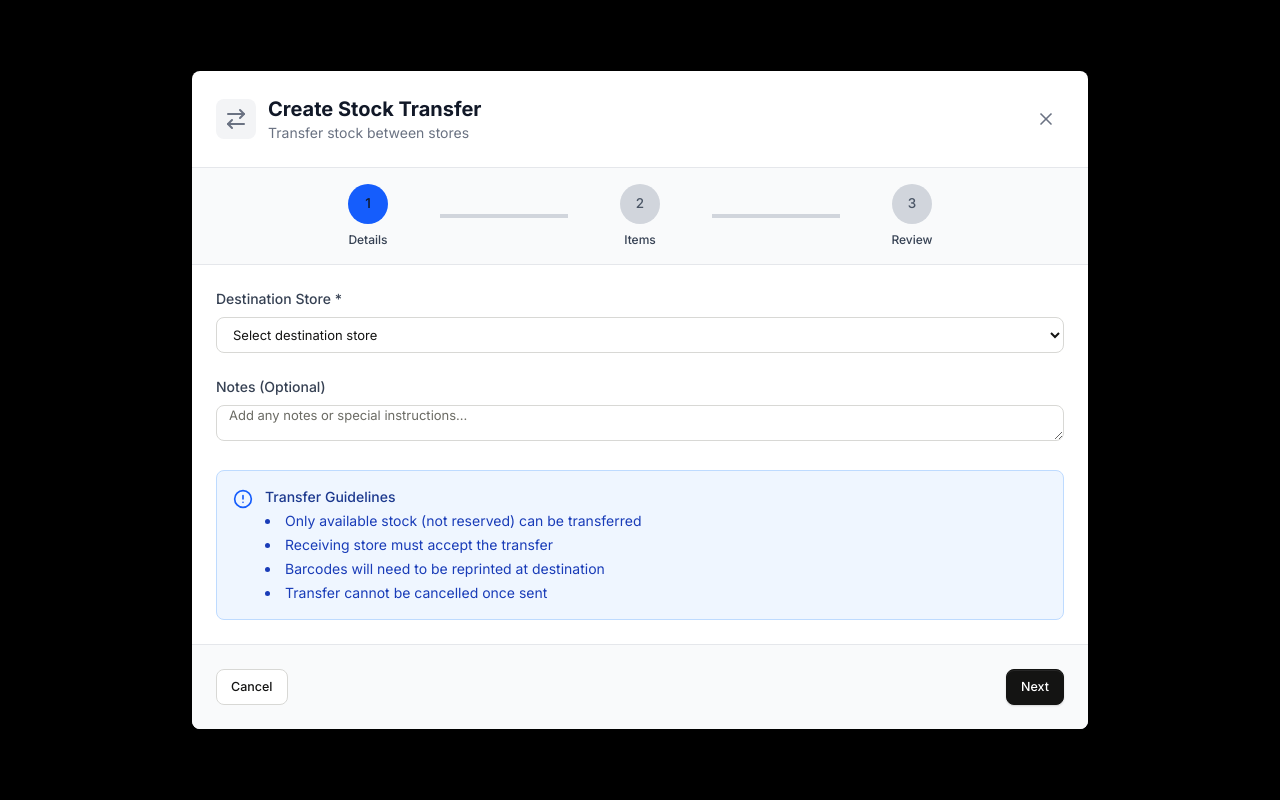
New transfer: item search by a unit code › bv0000000043 finds its product
Select "Bokaro (BOK)" in the dropdown named "Destination Store": (640,335) [216,317,1064,353]
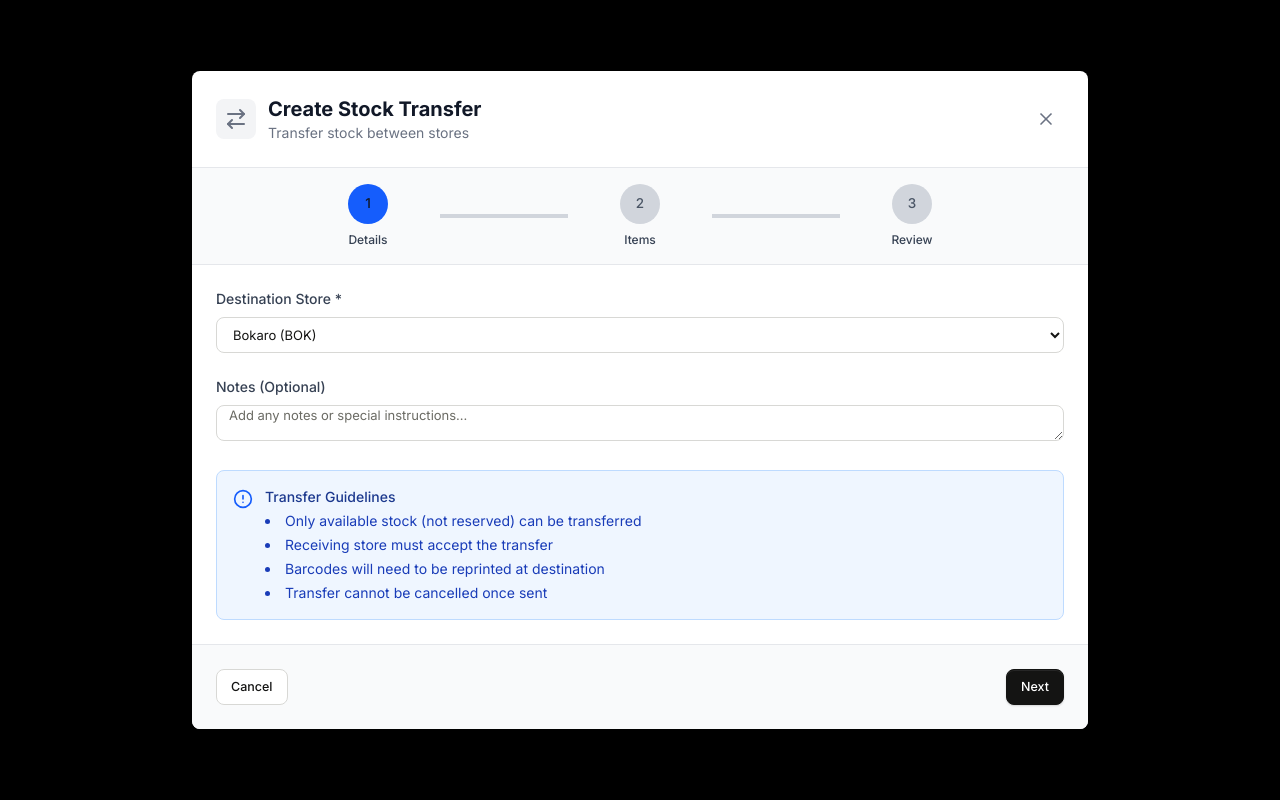
Click the button "Next": (1035,687) [1006,669,1064,705]
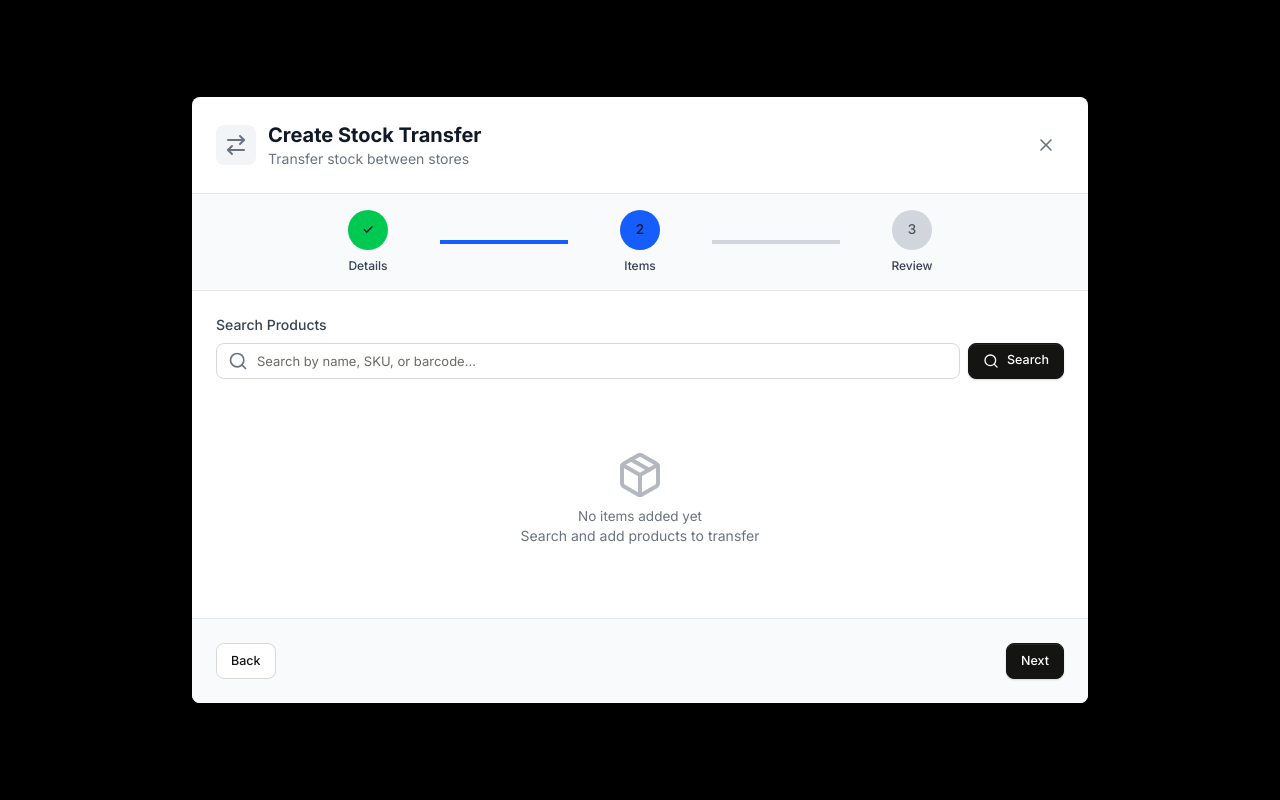
In the field with placeholder "Search by name, SKU, or barcode...": (588,361) [216,343,960,379], type "bv0000000043"
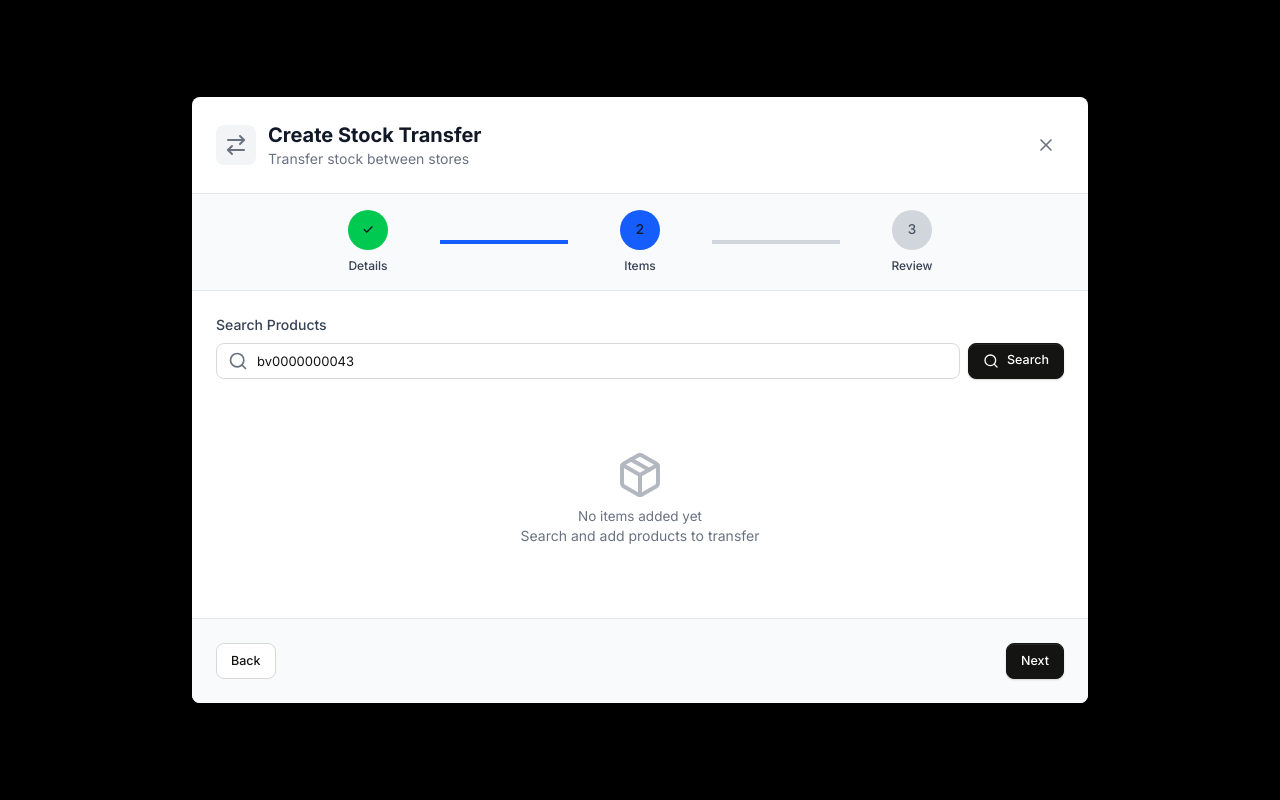
Click the button "Search": (1016,361) [968,343,1064,379]
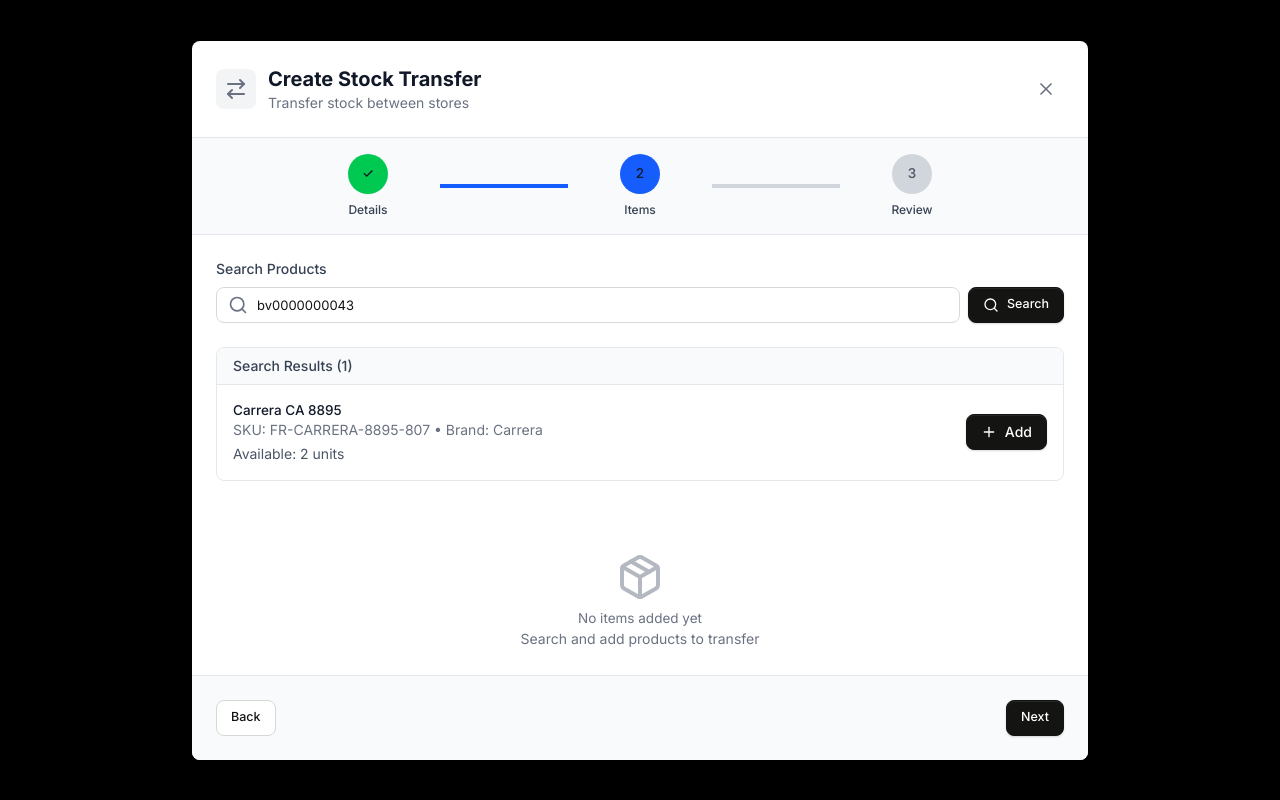
Expected: the text "Carrera CA 8895" is shown, [233,402,342,418]
